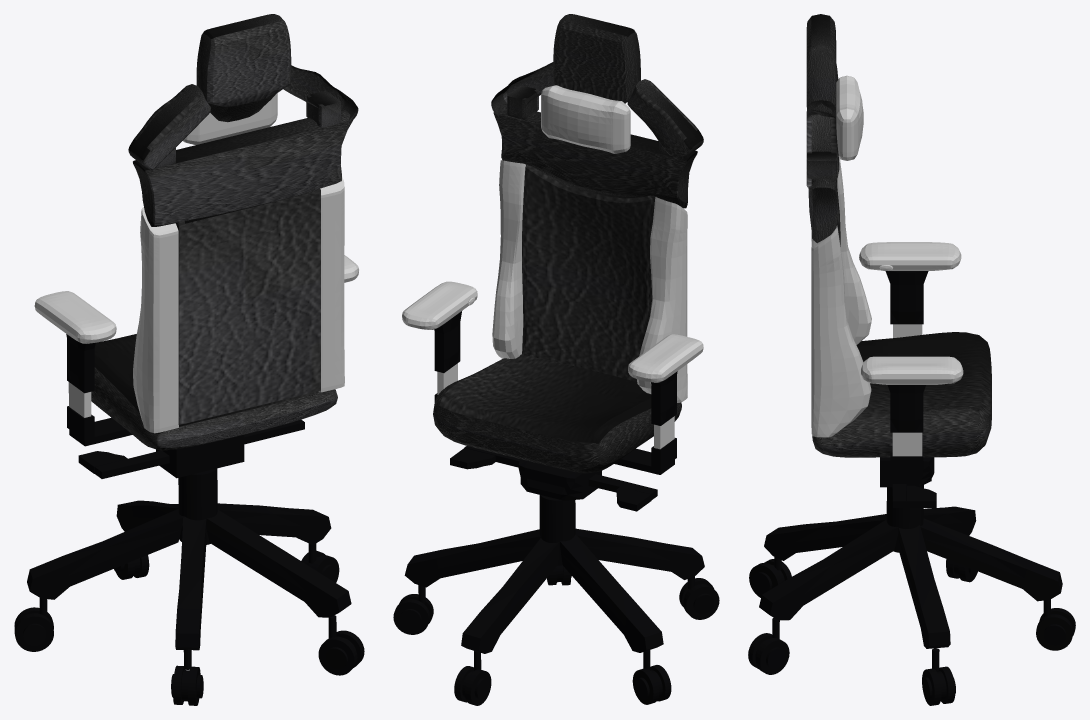
Rendered from computer-chair.dae.
The picture shows the model from 3 angles, left to right: view 1: azimuth 30°, elevation 25°; view 2: azimuth 150°, elevation 25°; view 3: azimuth 270°, elevation 25°; orthographic projection. The views are drawn at different scales.
Parts seen in each view (by area): view 1: Cube.001, Cylinder, Cube.002, Cube.006, Cylinder.004, Cube.013, Cube.014, Cube.010, Cube.008; view 2: Cube.001, Cylinder, Cube.002, Cube.013, Cylinder.004, Cube.006, Cube.010, Cube.014, Cube.008; view 3: Cylinder, Cube.001, Cube.002, Cylinder.004, Cube.010, Cube.013, Cube.006, Cube.008, Cube.014.
Boxes of the visible parts, x1=… form: Cube.001: x1=91, y1=14, x2=358, y2=450; Cylinder: x1=14, y1=468, x2=364, y2=705; Cube.002: x1=133, y1=176, x2=344, y2=433; Cube.006: x1=78, y1=419, x2=304, y2=478; Cylinder.004: x1=34, y1=255, x2=358, y2=343; Cube.013: x1=183, y1=93, x2=277, y2=144; Cube.014: x1=67, y1=406, x2=132, y2=446; Cube.010: x1=66, y1=334, x2=95, y2=393; Cube.008: x1=68, y1=382, x2=91, y2=417; Cube.001: x1=433, y1=14, x2=703, y2=473; Cylinder: x1=393, y1=495, x2=719, y2=705; Cube.002: x1=492, y1=160, x2=687, y2=402; Cube.013: x1=541, y1=85, x2=630, y2=153; Cylinder.004: x1=402, y1=281, x2=703, y2=382; Cube.006: x1=450, y1=446, x2=657, y2=511; Cube.010: x1=434, y1=311, x2=677, y2=425; Cube.014: x1=434, y1=393, x2=676, y2=474; Cube.008: x1=437, y1=363, x2=674, y2=449; Cylinder: x1=748, y1=485, x2=1075, y2=705; Cube.001: x1=806, y1=14, x2=991, y2=457; Cube.002: x1=811, y1=158, x2=871, y2=437; Cylinder.004: x1=859, y1=242, x2=963, y2=384; Cube.010: x1=885, y1=271, x2=928, y2=432; Cube.013: x1=836, y1=75, x2=863, y2=160; Cube.006: x1=880, y1=457, x2=936, y2=507; Cube.008: x1=892, y1=324, x2=922, y2=456; Cube.014: x1=890, y1=452, x2=923, y2=483.
Bounding box in the file's own units: 4.58 × 4.44 × 9.15.
